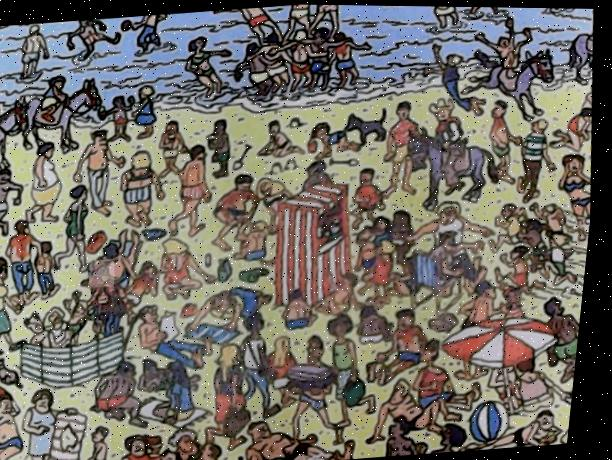waldo: (94, 258, 124, 288)
